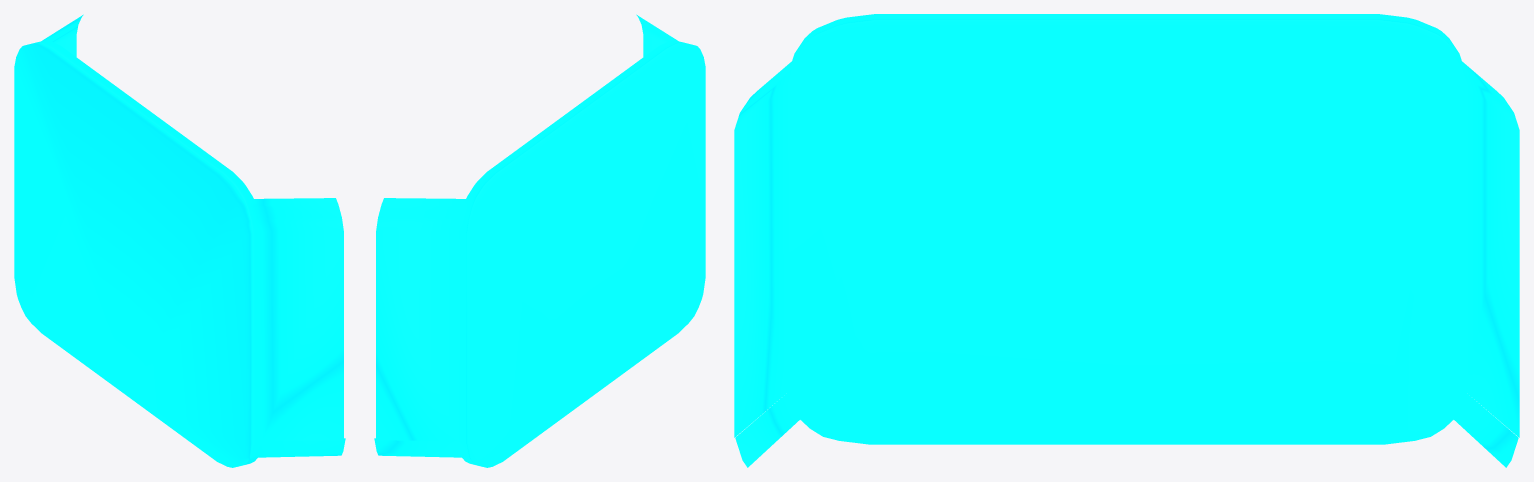
Rendered from Shield.fbx.
3 renders of one model, left to right at view 1: azimuth 30°, elevation 25°; view 2: azimuth 150°, elevation 25°; view 3: azimuth 270°, elevation 25°, orthographic. The views are drawn at different scales.
Visible parts, largest first — view 1: Cube; view 2: Cube; view 3: Cube.
Part boxes in pixels (bbox=[...]): Cube: bbox=[14, 14, 345, 467]; Cube: bbox=[374, 14, 705, 467]; Cube: bbox=[734, 14, 1519, 467].
Bounding box in the file's own units: 189 × 620 × 1055.
